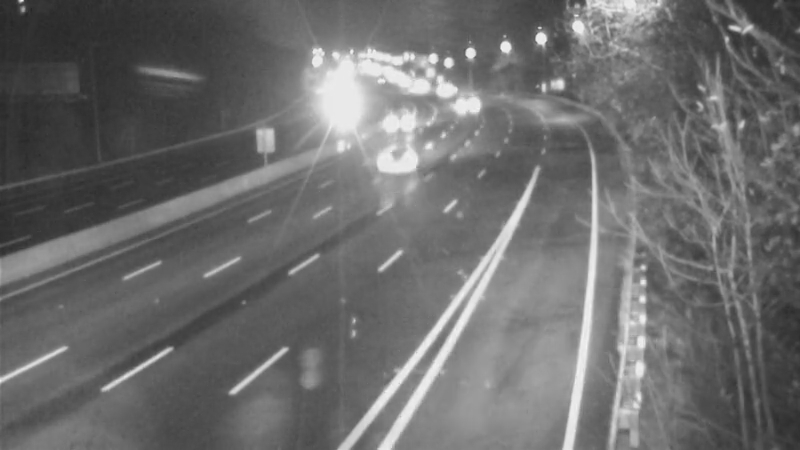vehicle: (353, 120, 433, 200), (415, 66, 465, 116), (440, 81, 490, 131), (378, 94, 428, 144)
